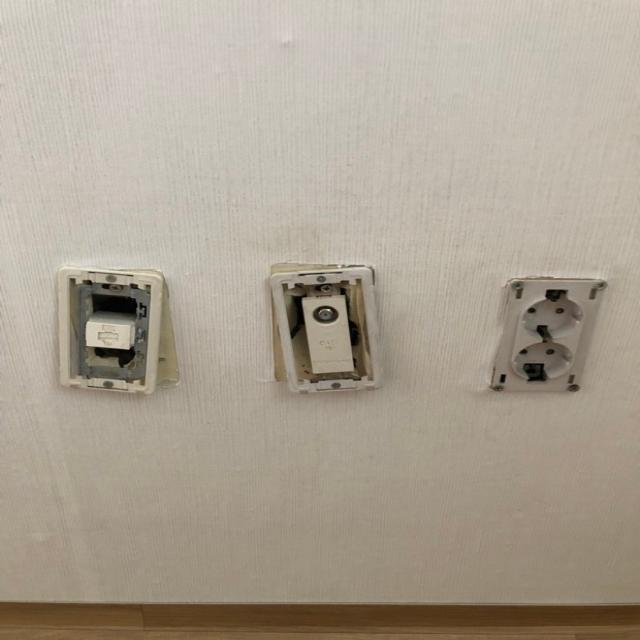typeb: (475, 243, 624, 454)
